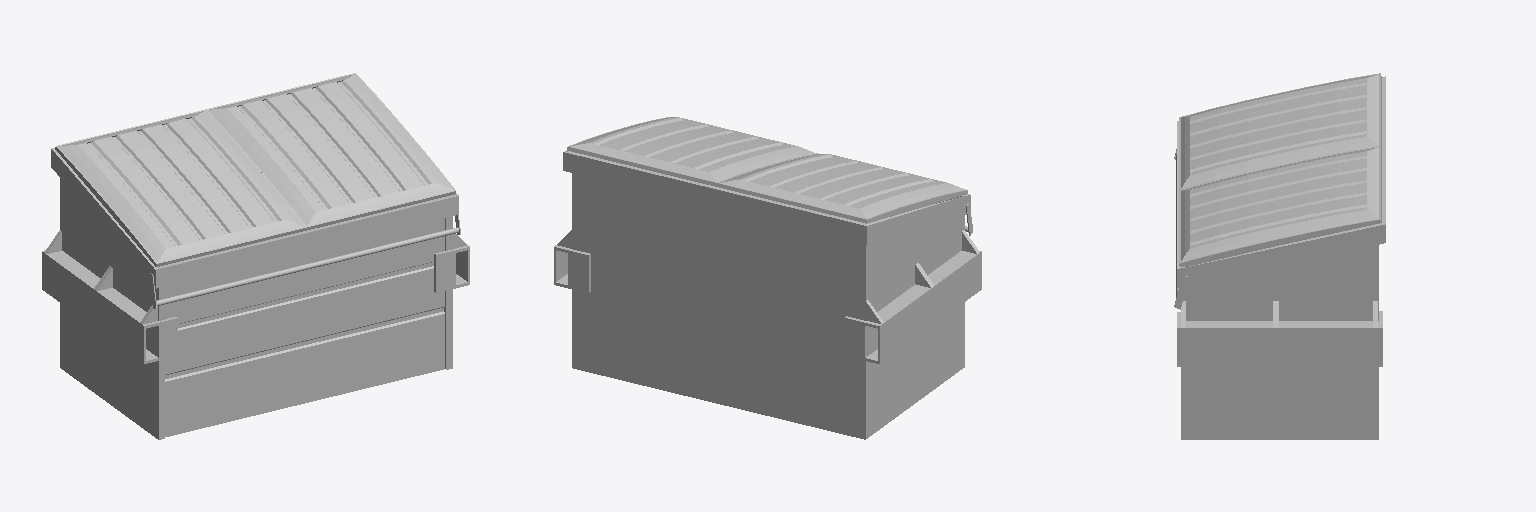
Rendered from ShatteredMonkey.obj.
The picture shows the model from 3 angles: view 1: azimuth 30°, elevation 25°; view 2: azimuth 150°, elevation 25°; view 3: azimuth 270°, elevation 25°; orthographic projection.
Visible parts, largest first — view 1: Cylinder; view 2: Cylinder; view 3: Cylinder.
Boxes of the visible parts, x1=… form: Cylinder: x1=42, y1=73, x2=469, y2=439; Cylinder: x1=554, y1=117, x2=981, y2=439; Cylinder: x1=1174, y1=73, x2=1385, y2=439.
Bounding box in the file's own units: 2.64 × 1.74 × 1.49.